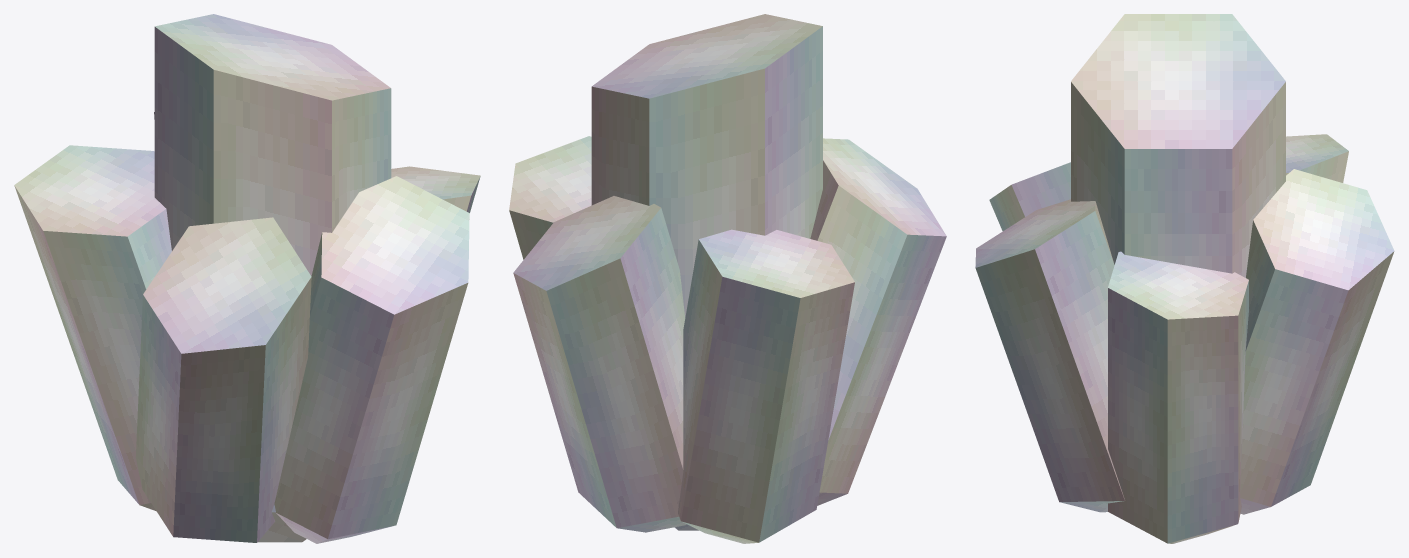
File: raw_quartz.obj
3 renders of one model, left to right at view 1: azimuth 30°, elevation 25°; view 2: azimuth 150°, elevation 25°; view 3: azimuth 270°, elevation 25°, orthographic. The views are drawn at different scales.
Visible parts, largest first — view 1: Cylinder.005_Cylinder.009, Cylinder.001_Cylinder.004, Cylinder, Cylinder.003_Cylinder.007, Cylinder.002_Cylinder.006; view 2: Cylinder.003_Cylinder.007, Cylinder, Cylinder.004_Cylinder.008, Cylinder.001_Cylinder.004, Cylinder.002_Cylinder.006; view 3: Cylinder, Cylinder.002_Cylinder.006, Cylinder.004_Cylinder.008, Cylinder.005_Cylinder.009, Cylinder.001_Cylinder.004, Cylinder.003_Cylinder.007.
Boxes of the visible parts, x1,y1,x2,y2 form: Cylinder.005_Cylinder.009: [274, 176, 469, 543]; Cylinder.001_Cylinder.004: [135, 217, 311, 542]; Cylinder: [154, 14, 391, 542]; Cylinder.003_Cylinder.007: [14, 145, 171, 510]; Cylinder.002_Cylinder.006: [391, 166, 480, 212]; Cylinder.003_Cylinder.007: [678, 229, 854, 543]; Cylinder: [591, 14, 822, 530]; Cylinder.004_Cylinder.008: [513, 196, 686, 532]; Cylinder.001_Cylinder.004: [810, 138, 946, 505]; Cylinder.002_Cylinder.006: [509, 136, 591, 259]; Cylinder: [1071, 14, 1285, 277]; Cylinder.002_Cylinder.006: [1108, 251, 1248, 543]; Cylinder.004_Cylinder.008: [1240, 169, 1394, 514]; Cylinder.005_Cylinder.009: [975, 199, 1124, 512]; Cylinder.001_Cylinder.004: [989, 162, 1070, 230]; Cylinder.003_Cylinder.007: [1286, 134, 1348, 182].
Size of the model in its own units: 0.9575 by 1.18 by 0.9736.
